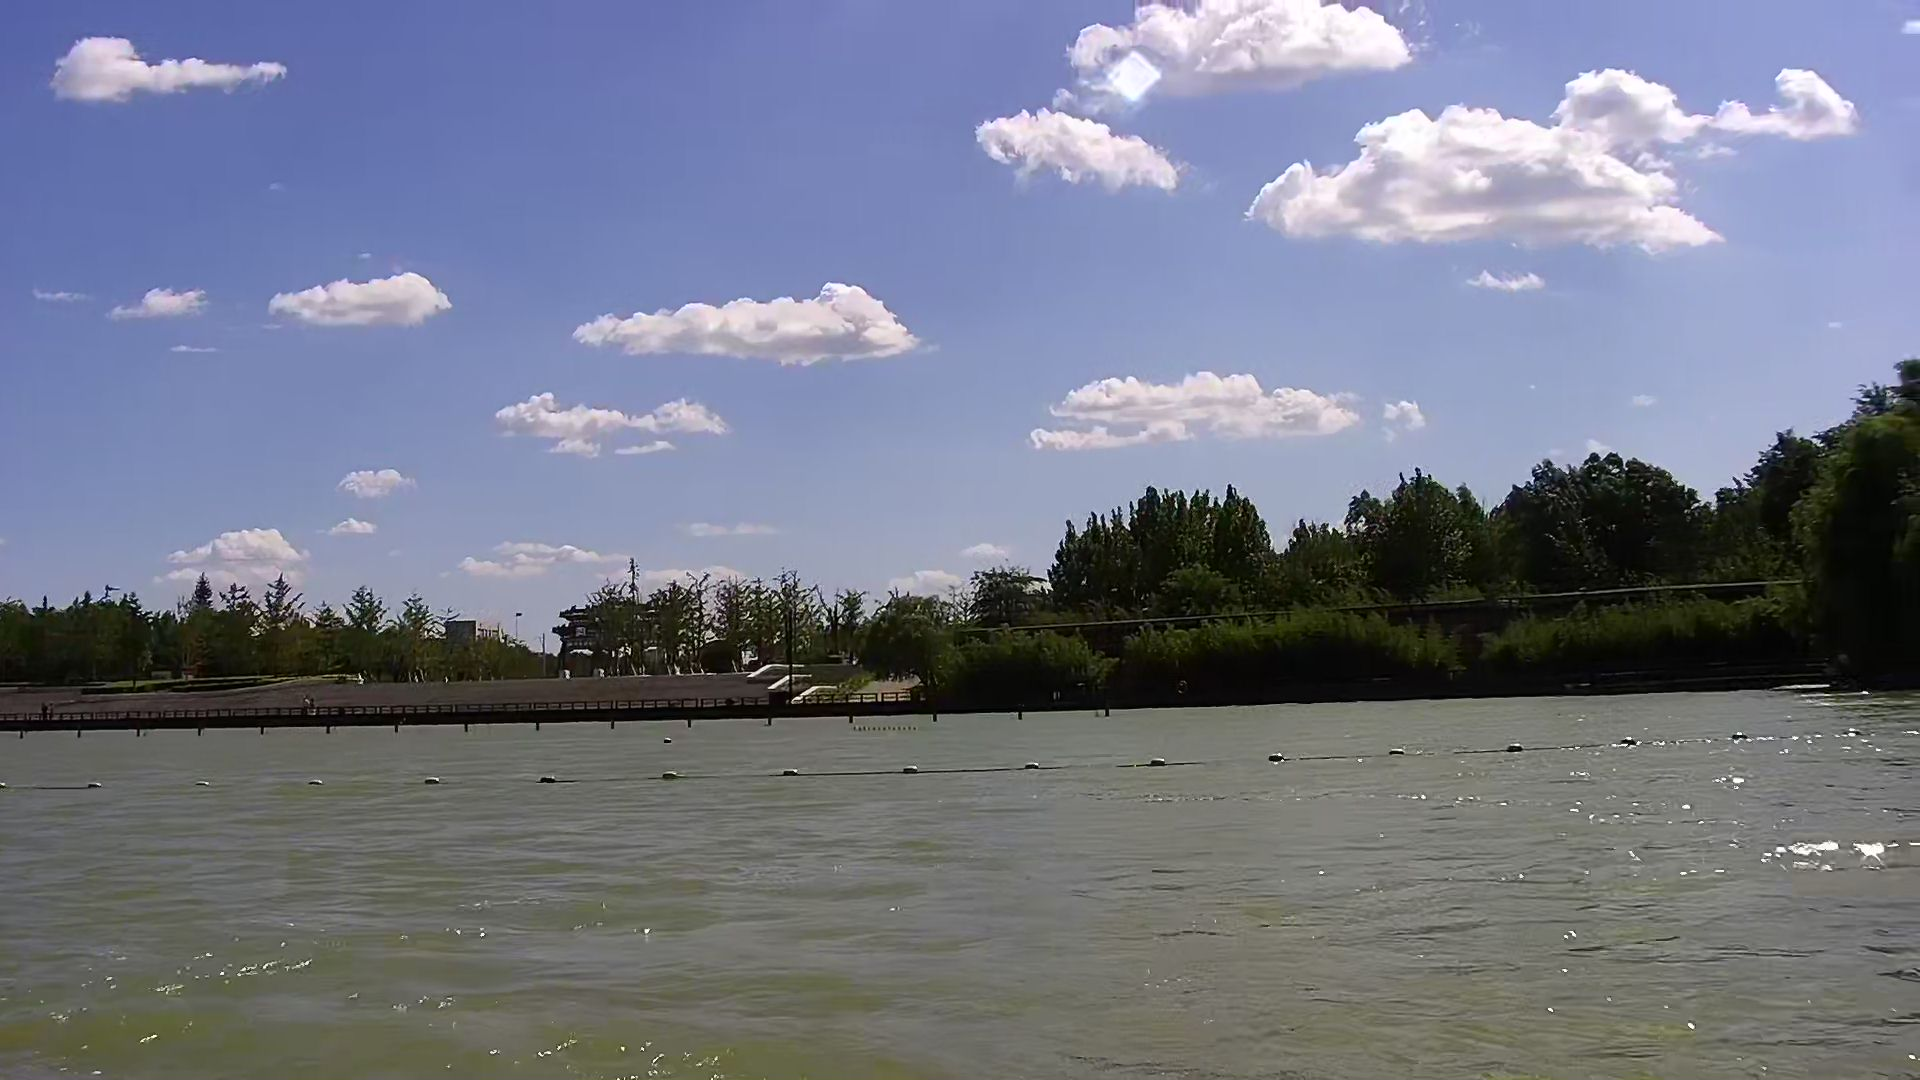ball: (1007, 750, 1054, 794), (1495, 724, 1538, 770), (1257, 740, 1305, 778), (1141, 748, 1193, 782), (777, 744, 811, 790), (897, 746, 928, 790), (651, 758, 688, 793)
